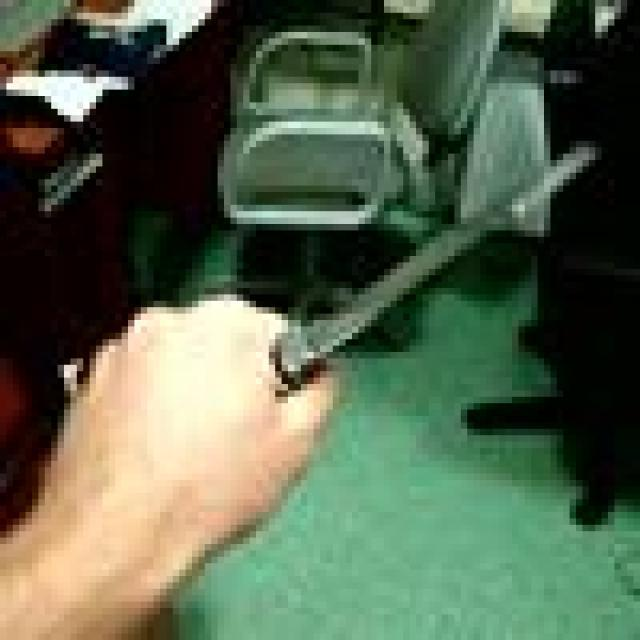faca: (45, 115, 621, 557)
